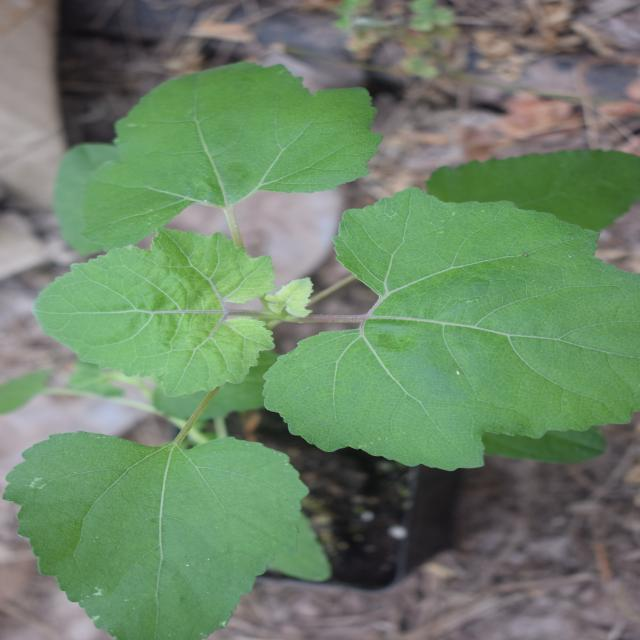cocklebur: (18, 0, 583, 602)
